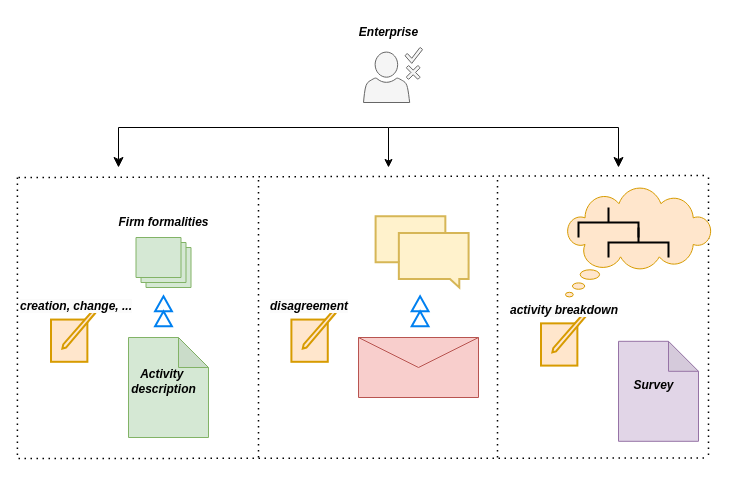
Image size: 730x477. Some labels were removed from this diagram. Here are the shapes that lost their labels. From the top down, the centre of each, then its label:
(163,262): XML
(421,251): rectify APE
(418,367): Claim
